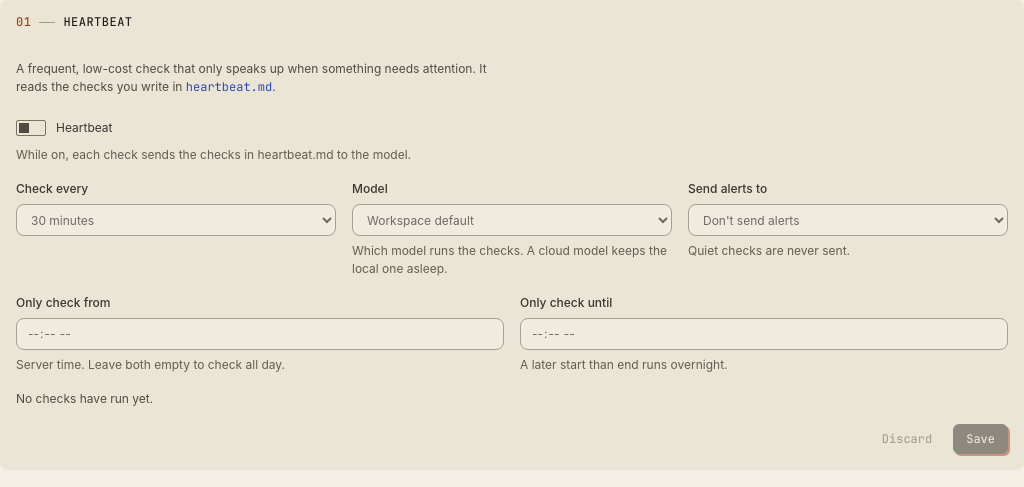
Test: HeartbeatPanel › saves what was set, only once something changed, and shows what the server kept
This screenshot has width=1024, height=487.
Expected: the button "Save" is disabled, [953,424,1008,454]
Click the switch labelled "Heartbeat" at (64, 128), box [16,119,112,137]
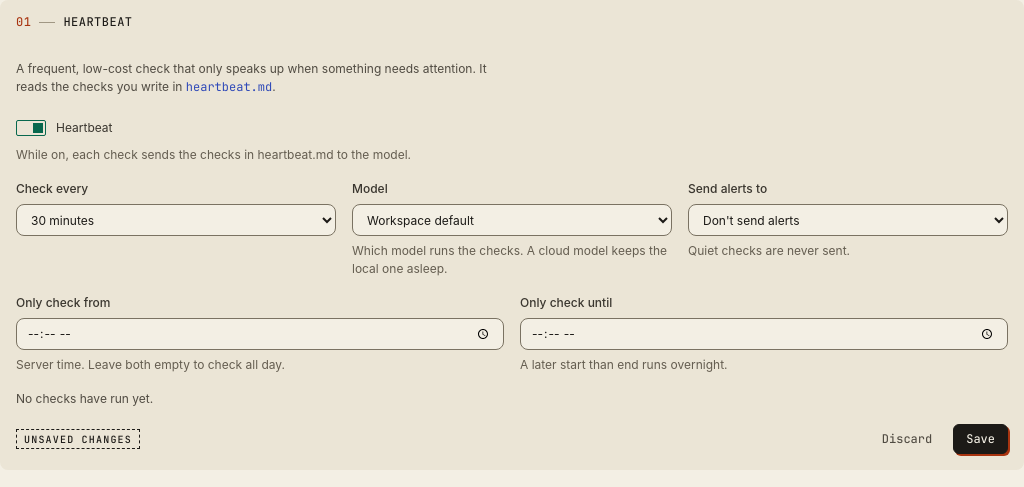
Select "1 hour" in the dropdown labelled "Check every" at (176, 220), box [16,204,336,236]
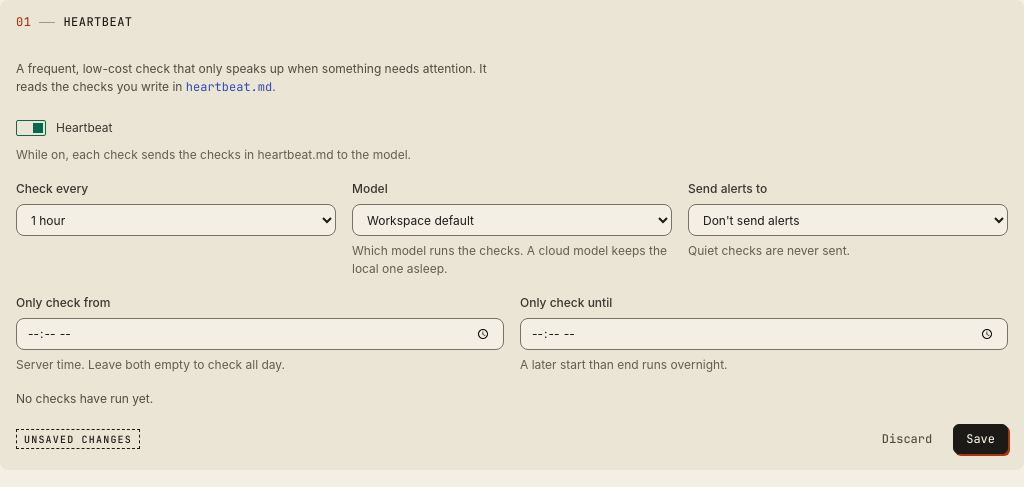
Select "gpt-5 · openai" in the dropdown labelled "Model" at (512, 220), box [352,204,672,236]
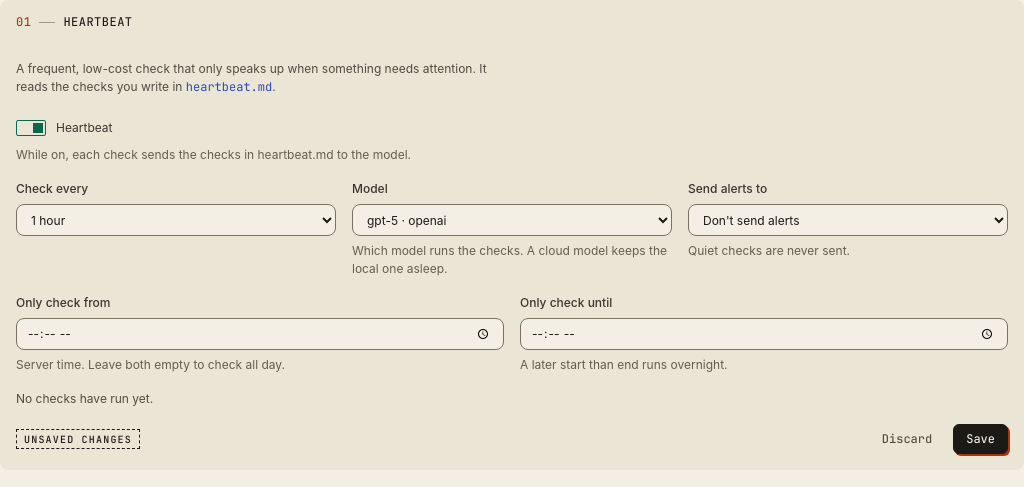
Select "my-telegram" in the dropdown labelled "Send alerts to" at (848, 220), box [688,204,1008,236]
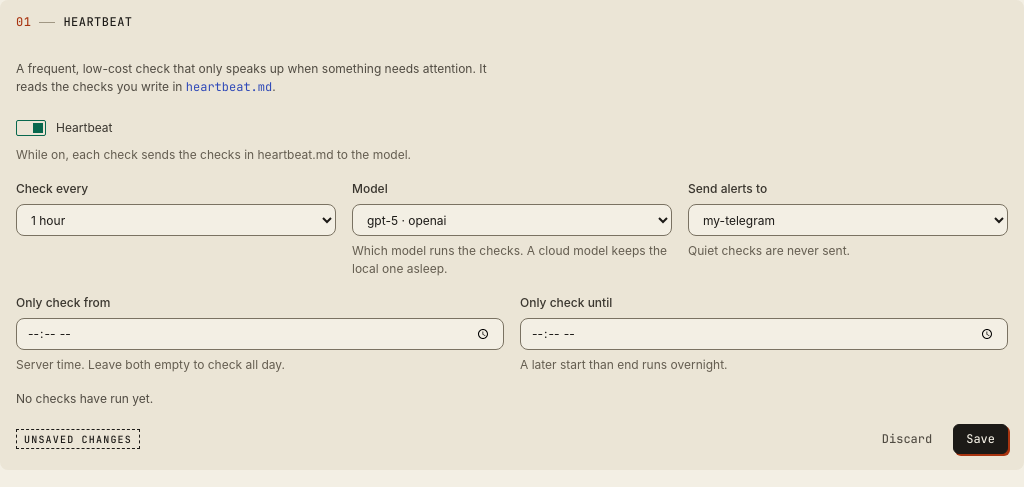
Expected: the text "Unsaved changes" is shown, [16,429,140,449]
Click the button "Save" at (981, 439), box [953,424,1008,454]
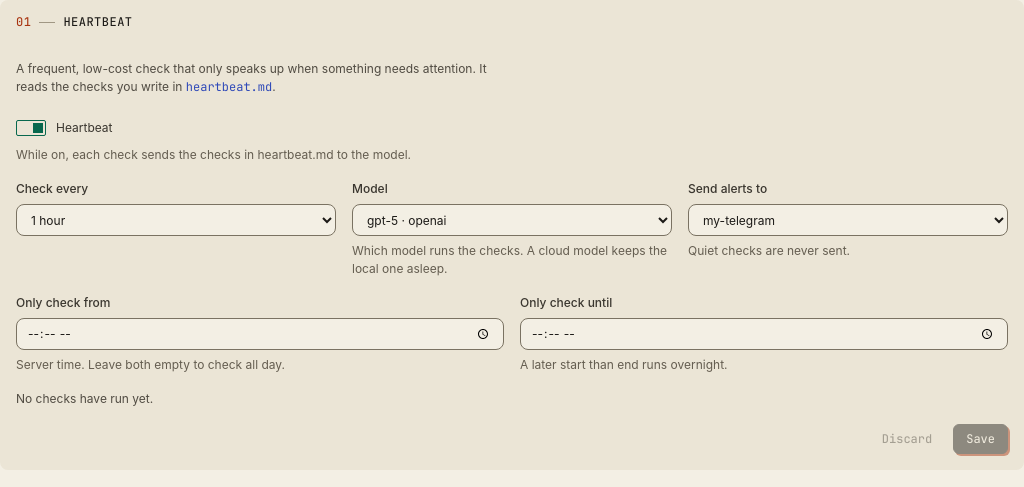
Expected: the text "Unsaved changes" is gone
